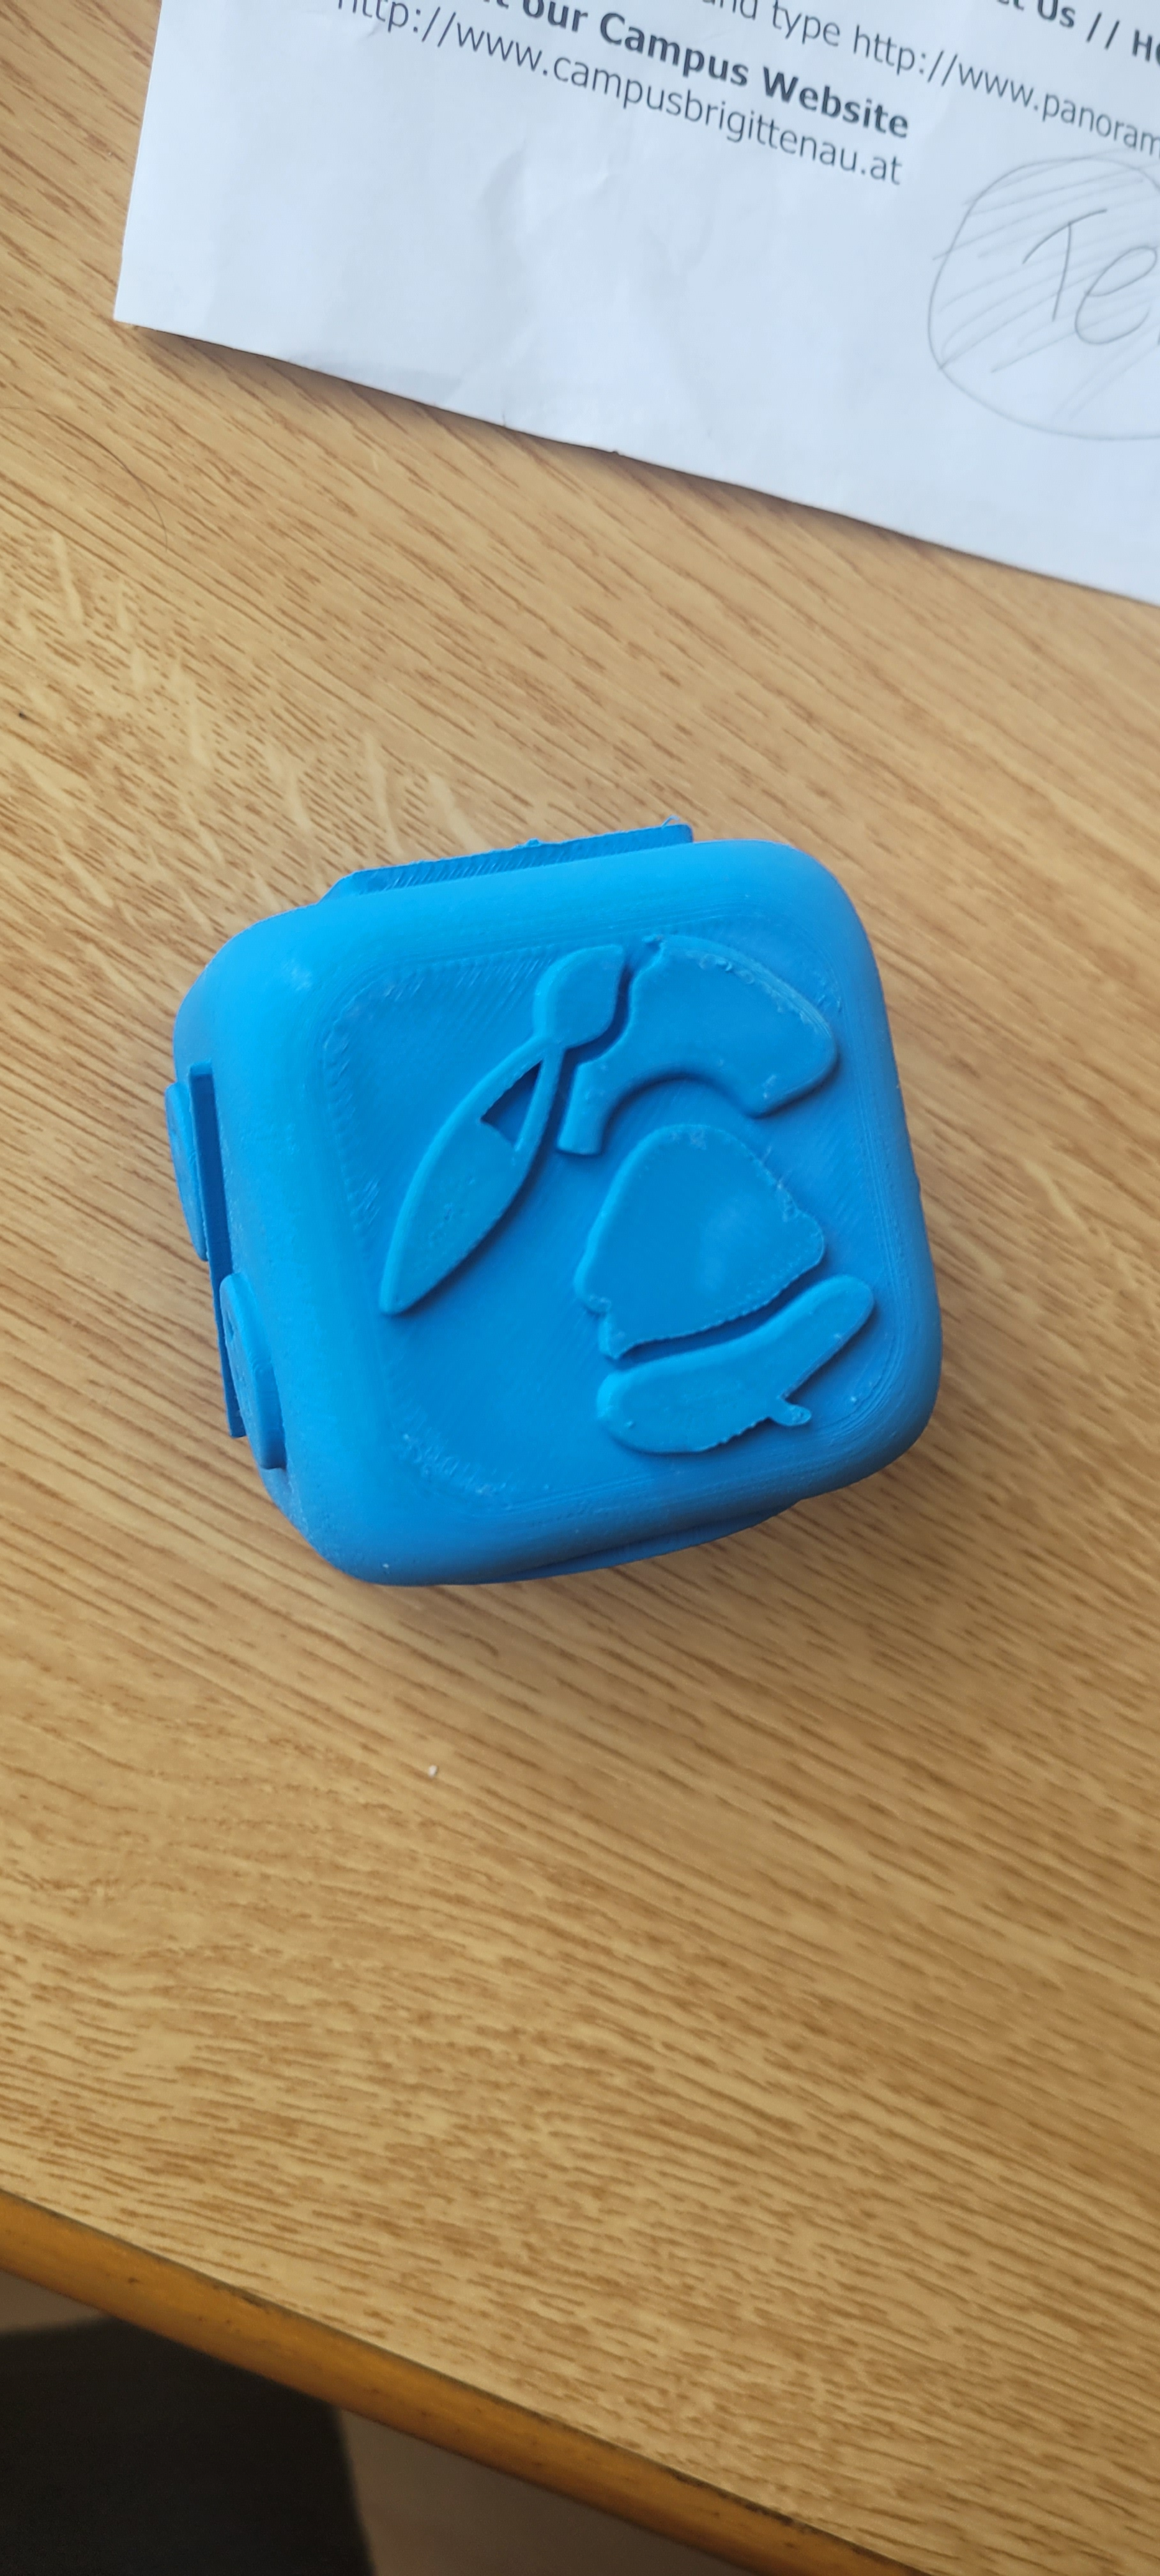Artist_Info: (281, 756, 927, 1621)
